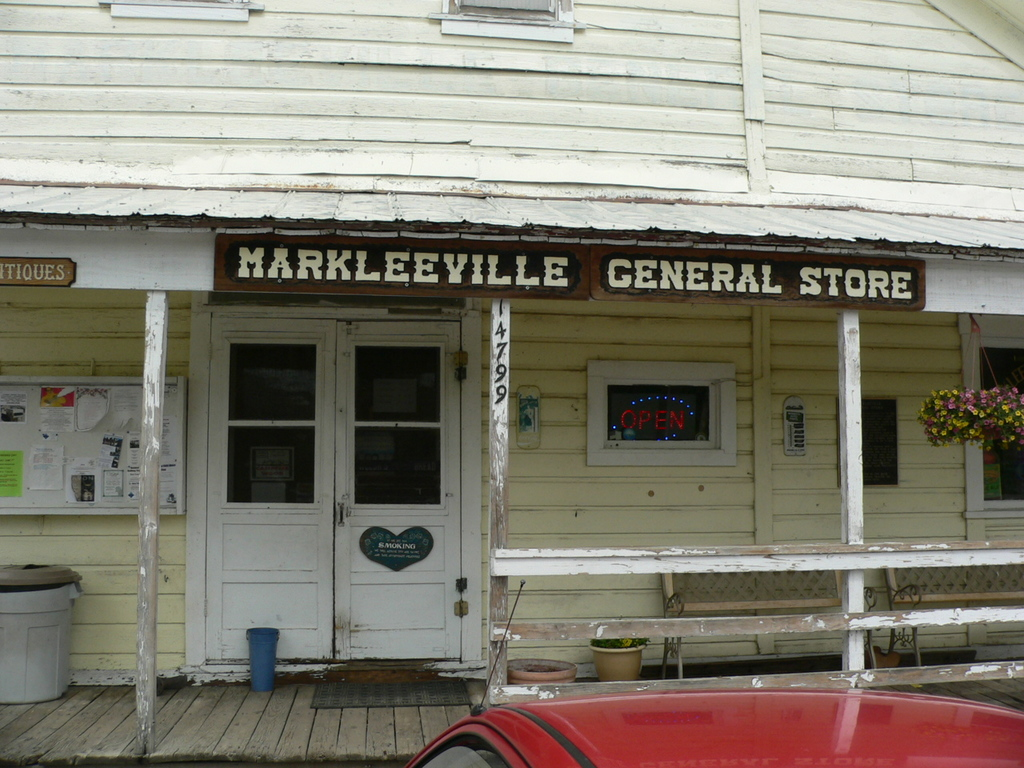Car: (399, 574, 1023, 767)
